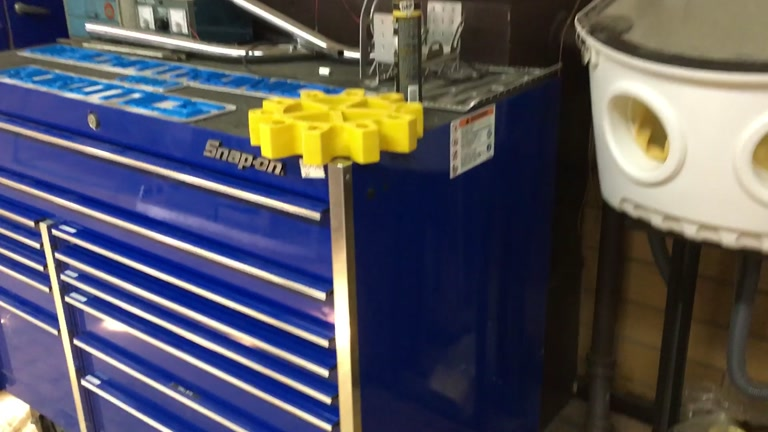gear: (247, 85, 425, 165)
